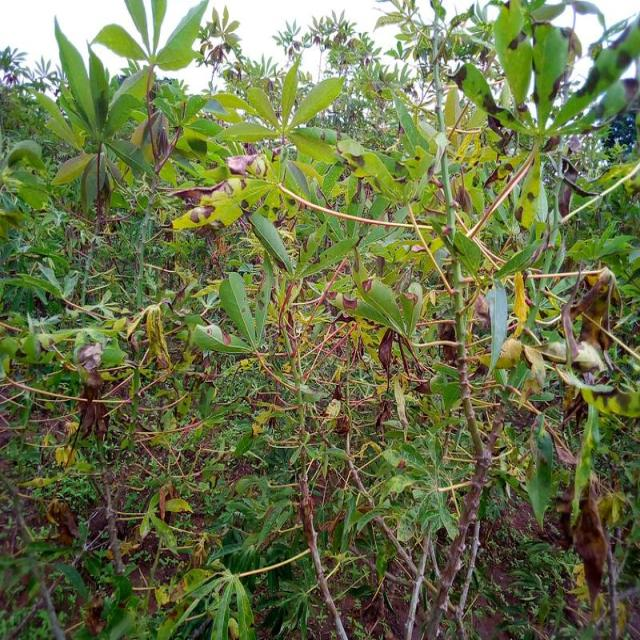cassava leaf: (485, 280, 508, 374)
